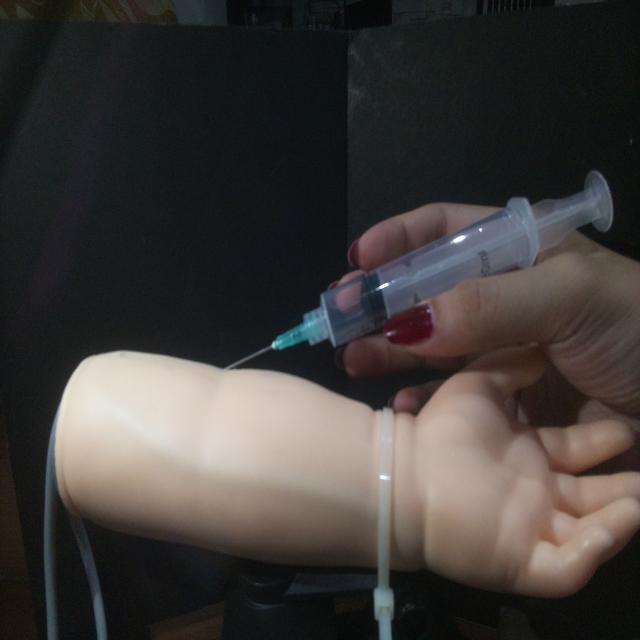21deg: (221, 164, 616, 373)
